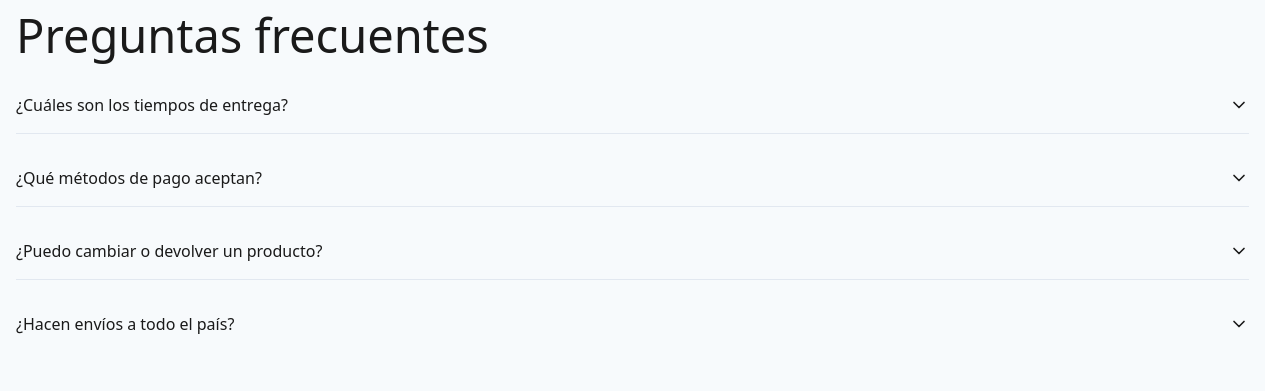
Test case: Faq › closes the previously open item when singleOpen is on
Click the button "¿Cuáles son los tiempos de entrega?": (152, 105) 16,77 -> 1249,133
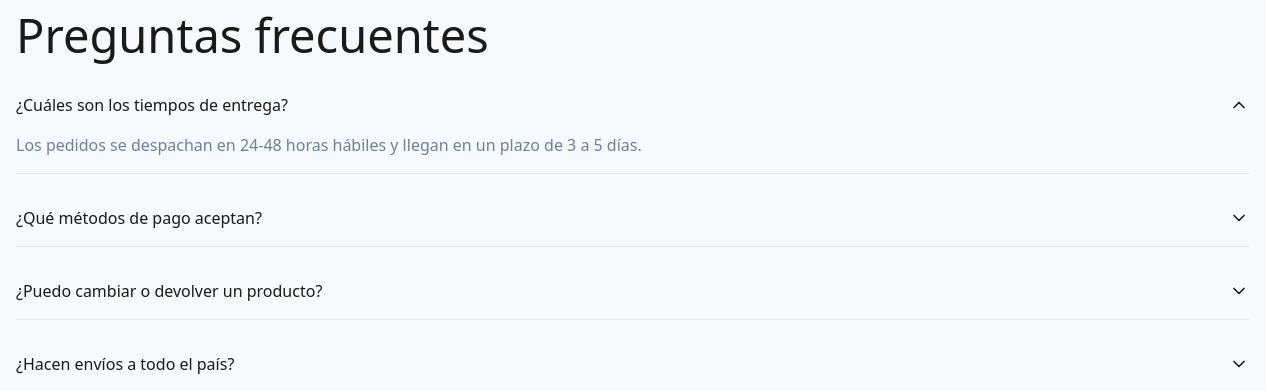
Result: the text "Los pedidos se despachan en 24-48 horas hábiles y llegan en un plazo de 3 a 5 días." is shown at 16,134 -> 642,156
Click the button "¿Qué métodos de pago aceptan?": (139, 218) 16,190 -> 1249,246
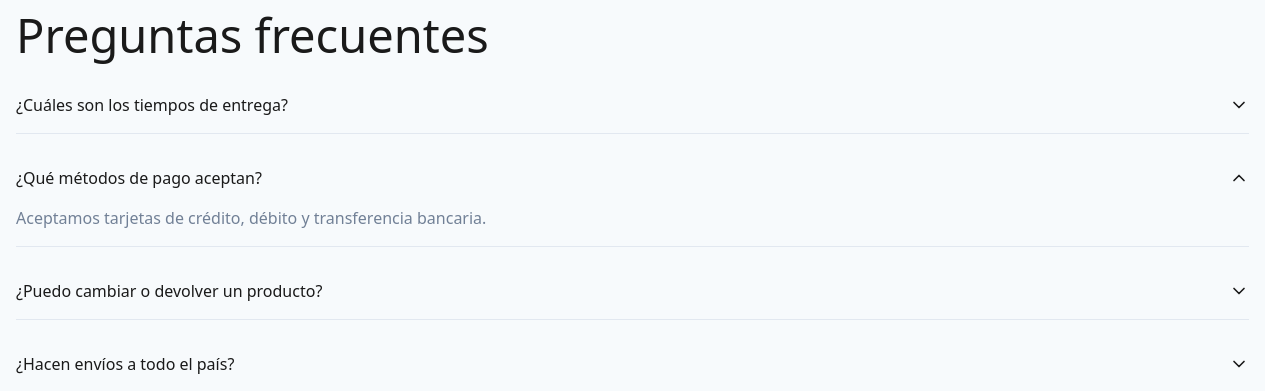
Result: the text "Los pedidos se despachan en 24-48 horas hábiles y llegan en un plazo de 3 a 5 días." is gone
Result: the text "Aceptamos tarjetas de crédito, débito y transferencia bancaria." is shown at 16,207 -> 486,229
